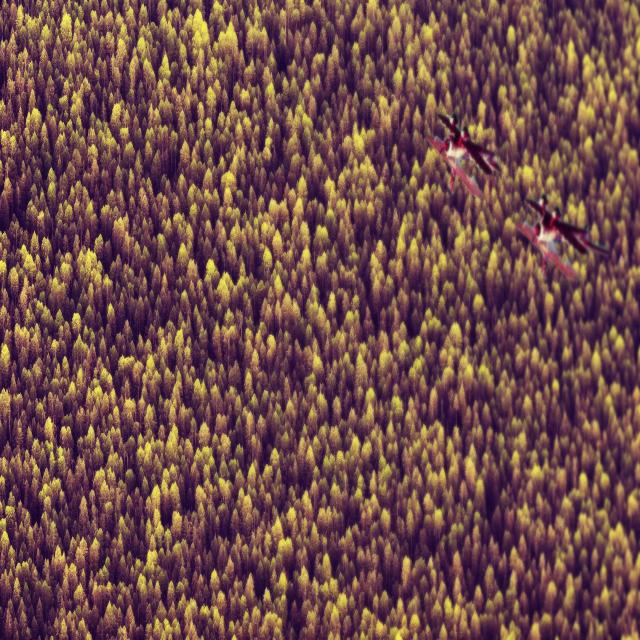airplane: (515, 192, 609, 281), (425, 111, 501, 198)
